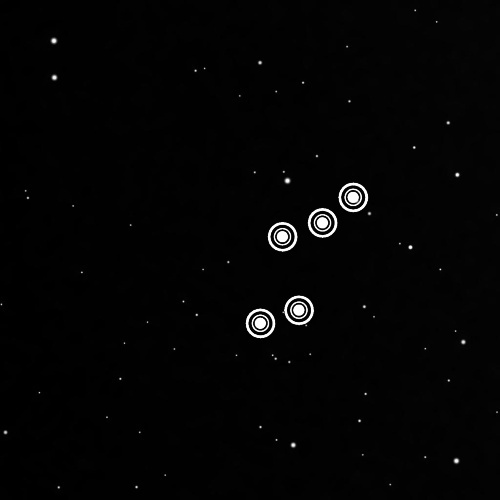lyra: (241, 168, 377, 347)
